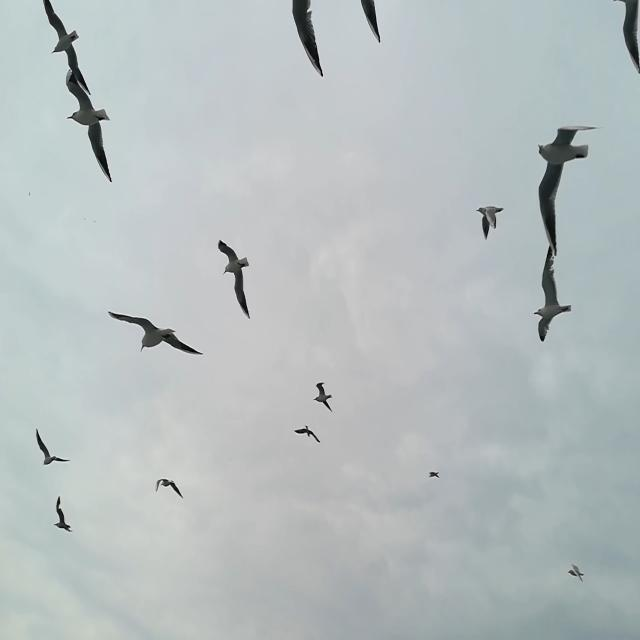bird: (537, 123, 599, 260), (65, 69, 112, 184), (41, 0, 93, 98), (108, 311, 206, 356), (534, 241, 572, 344), (218, 240, 250, 320), (292, 0, 324, 79), (609, 0, 640, 77), (34, 428, 70, 466), (476, 204, 504, 243), (361, 0, 382, 43), (54, 495, 73, 534), (312, 383, 333, 414), (155, 478, 184, 498), (295, 426, 322, 443), (567, 564, 585, 584), (428, 472, 440, 479), (28, 191, 31, 197), (83, 217, 86, 221), (93, 220, 96, 224)
